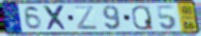5: (155, 4, 178, 32)
6: (23, 6, 44, 31)
9: (103, 4, 122, 31)
Q: (131, 4, 155, 31)
X: (42, 4, 69, 32)
Z: (73, 5, 100, 31)
